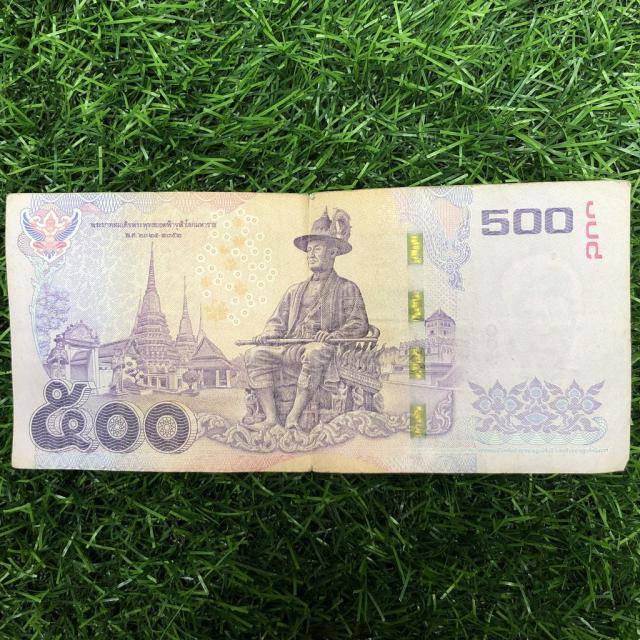THAI500: (6, 179, 631, 473)
